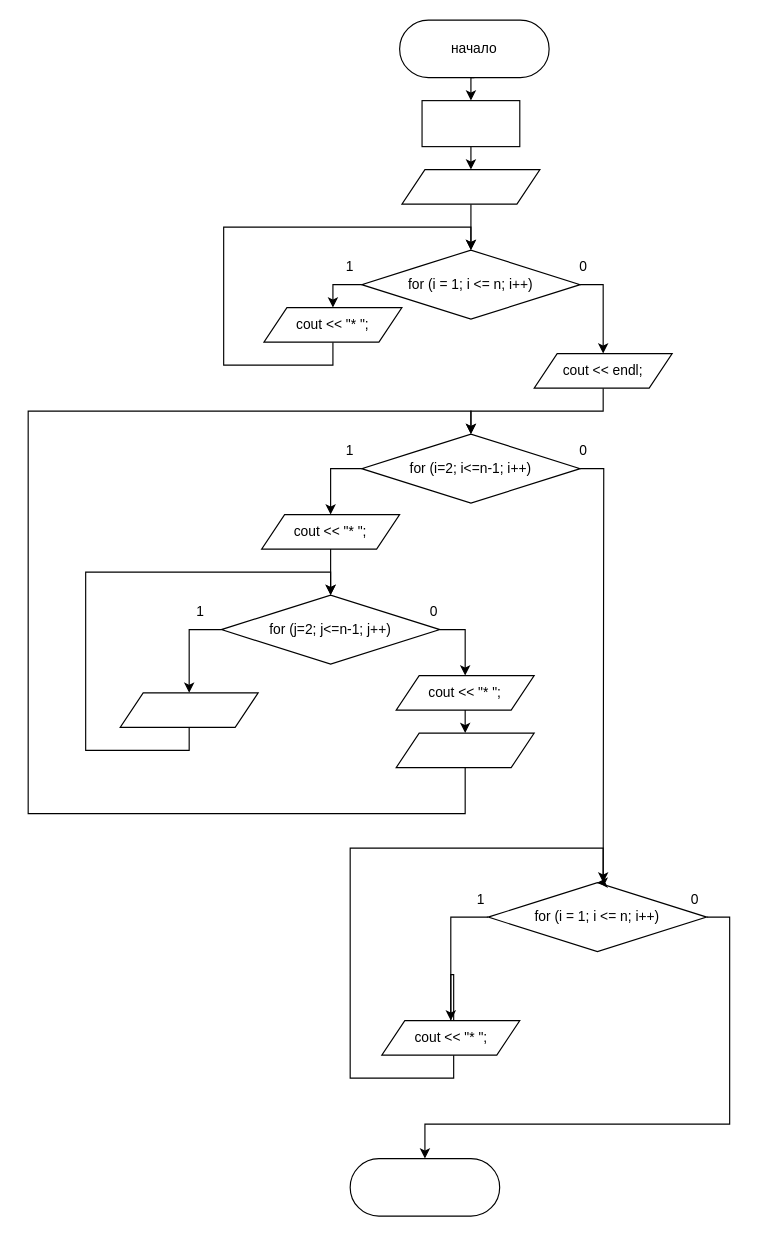
This 759x1236 diagram has some shape labels left out. Each missing label, with the centre of its shape:
cin >> n;: (470,186)
cout << " ";: (188,709)
cout <<endl;: (464,750)
int n,i,j;: (470,123)
Конец: (424,1186)
